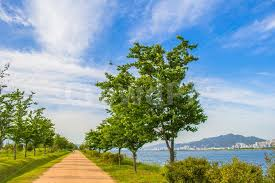sky: (2, 2, 274, 100)
tree: (109, 41, 201, 168), (2, 94, 71, 153)
